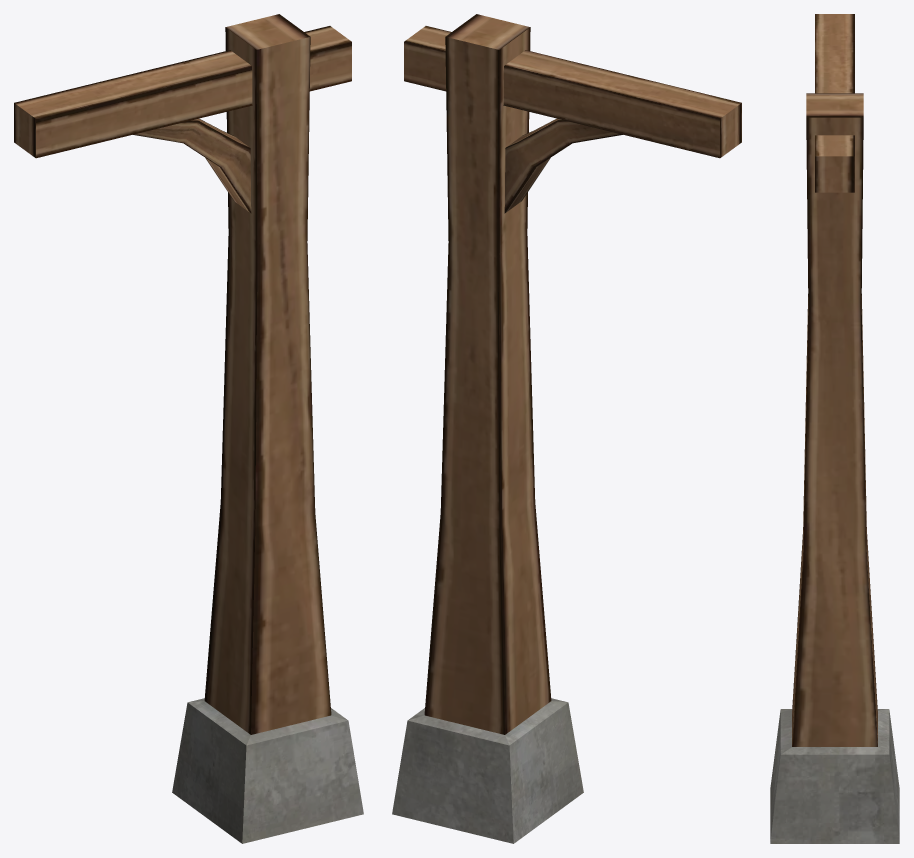
Rendered from wood-lamp.glb.
The picture shows the model from 3 angles, left to right: view 1: azimuth 30°, elevation 25°; view 2: azimuth 150°, elevation 25°; view 3: azimuth 270°, elevation 25°; orthographic projection. The views are drawn at different scales.
Visible parts, largest first — view 1: stktex_generic_WoodA.png__, stktex_generic_concreteA.png__; view 2: stktex_generic_WoodA.png__, stktex_generic_concreteA.png__; view 3: stktex_generic_WoodA.png__, stktex_generic_concreteA.png__.
Part boxes in pixels (x1,y1,x2,y2): stktex_generic_WoodA.png__: [14, 14, 351, 734]; stktex_generic_concreteA.png__: [172, 698, 363, 843]; stktex_generic_WoodA.png__: [404, 14, 741, 734]; stktex_generic_concreteA.png__: [392, 698, 583, 843]; stktex_generic_WoodA.png__: [792, 14, 877, 746]; stktex_generic_concreteA.png__: [770, 709, 899, 843].
Bounding box in the file's own units: 1.64 × 3.83 × 0.6326.
Materials: 2 (2 with a texture image).
